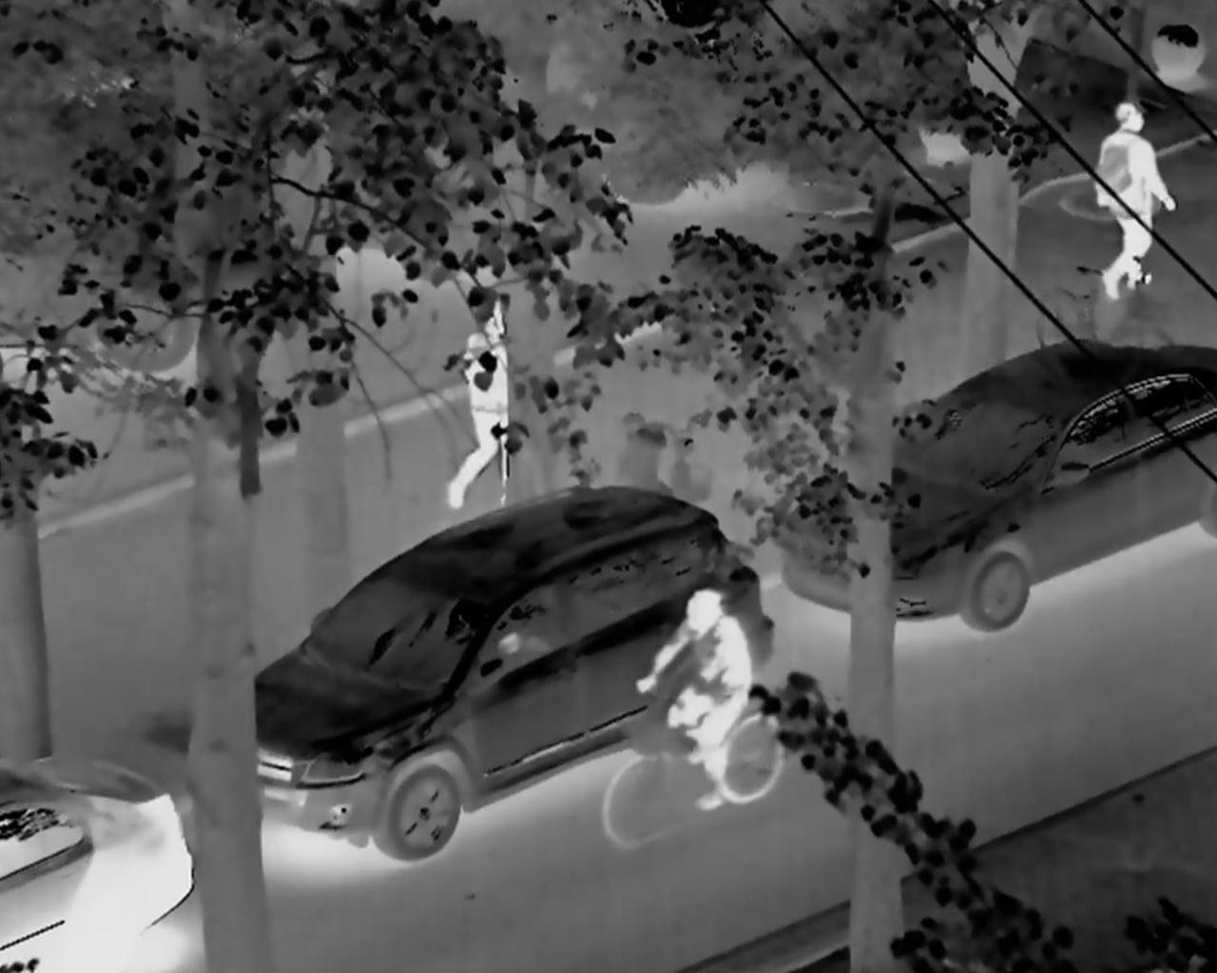person: (635, 589, 755, 811), (1096, 104, 1174, 297), (444, 297, 512, 514)
